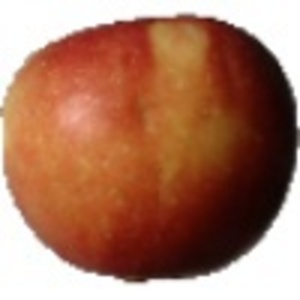maçã braeburn: (1, 12, 300, 280)
